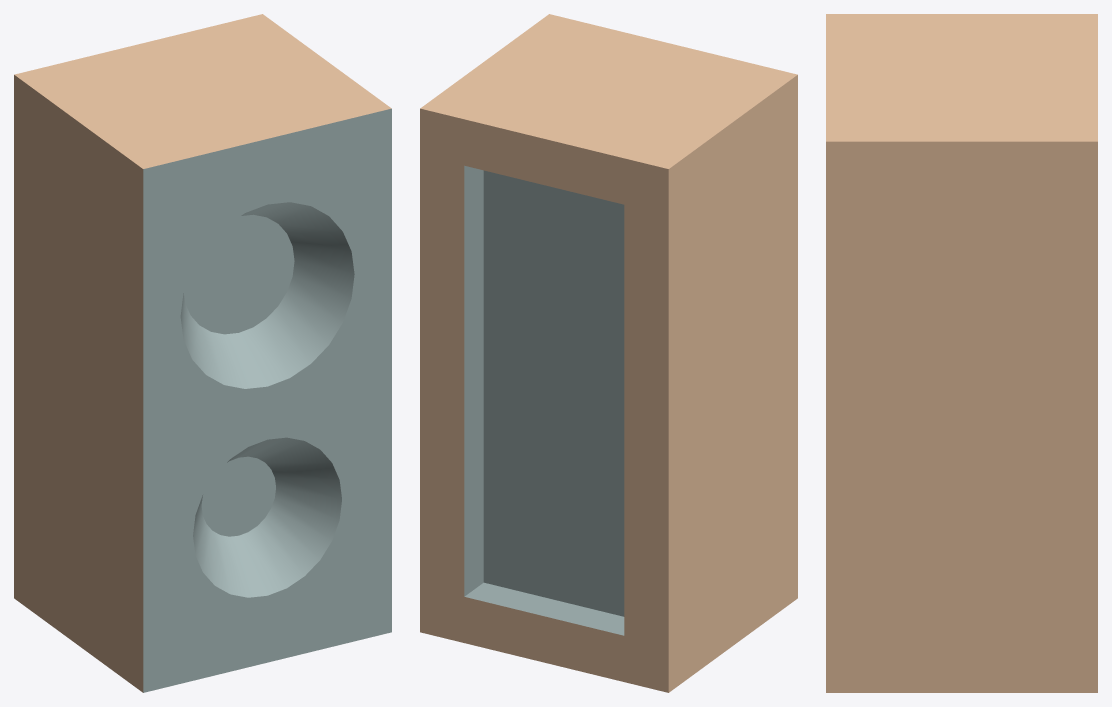
The model's file is speaker.glb.
3 views of the same model, side by side, from view 1: azimuth 30°, elevation 25°; view 2: azimuth 150°, elevation 25°; view 3: azimuth 270°, elevation 25° (orthographic). The views are drawn at different scales.
Visible parts, largest first — view 1: speakerSmall(Clone); view 2: speakerSmall(Clone); view 3: speakerSmall(Clone).
Part boxes in pixels (bbox=[...]): speakerSmall(Clone): bbox=[14, 14, 391, 692]; speakerSmall(Clone): bbox=[420, 14, 797, 692]; speakerSmall(Clone): bbox=[826, 14, 1097, 692].
Bounding box in the file's own units: 0.148 × 0.298 × 0.1332.
